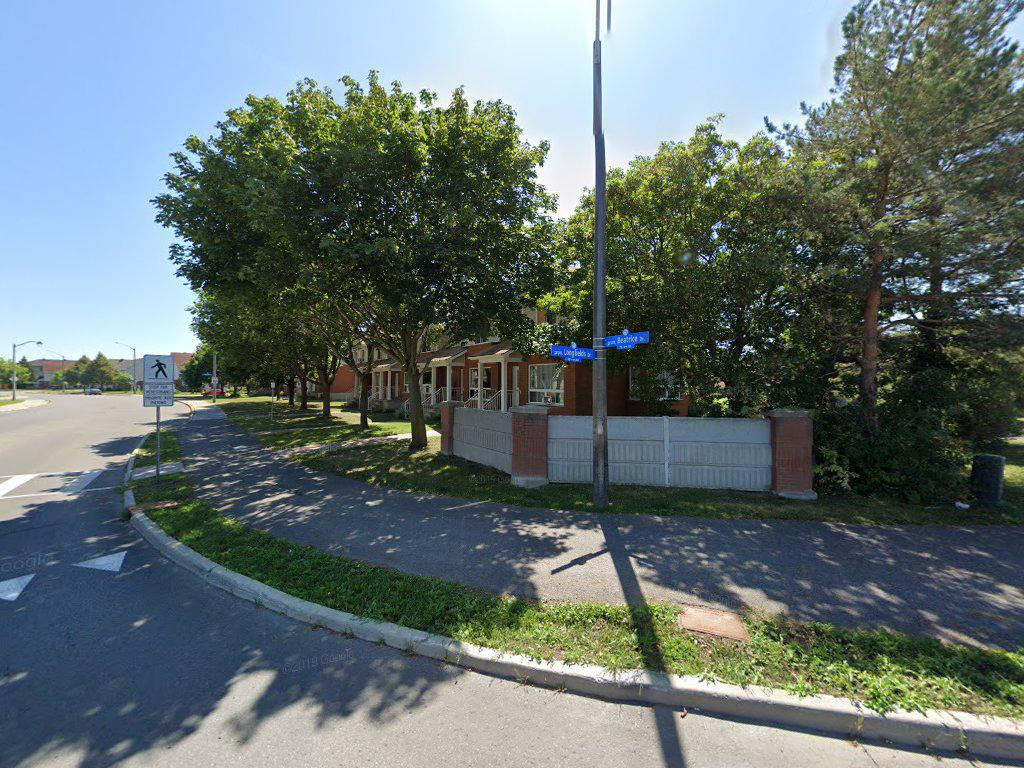trunk: (404, 341, 426, 457), (357, 370, 375, 438)
